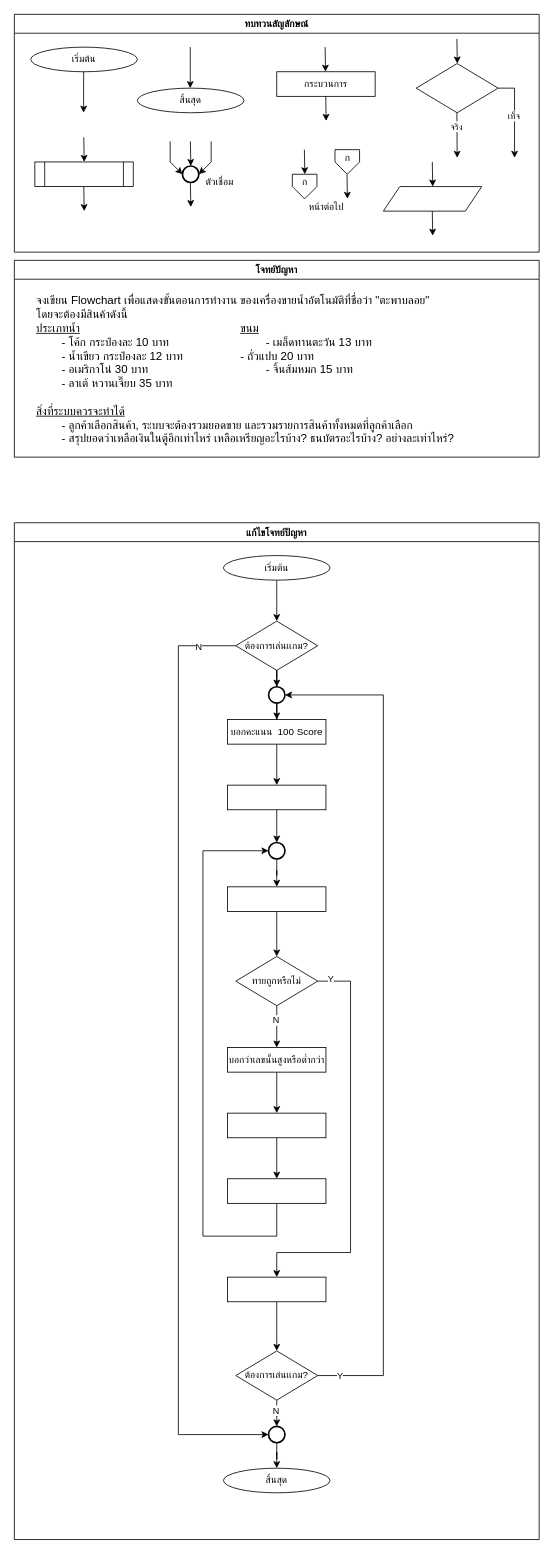
The diagram is 554 pixels wide and 1554 high, and some of its shapes have lost their labels. Each missing label, with the centre of its shape:
"ทายเลข" belongs at (276,898).
"บอกว่าทายถูกพร้อมแสดงคะแนนที่เหลืออยู่" belongs at (276,1289).
"ประโยคเงื่อนไข" belongs at (456,88).
"ฟังก์ชัน/โมดูล" belongs at (83,174).
"ลบคะแนน 10" belongs at (276,1125).
"สุ่มเลข 1-100 ให้ทาย" belongs at (276,797).
"แสดงคะแนน" belongs at (276,1190).
"แสดงผล/รับค่า" belongs at (432,198).
